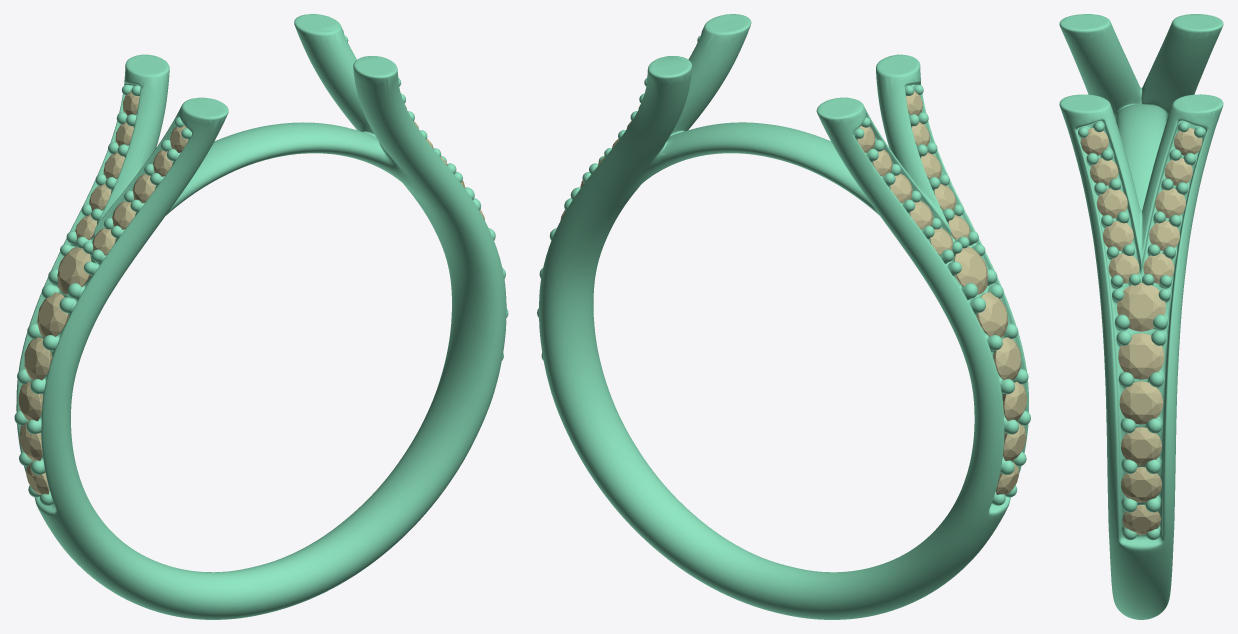
The picture shows the model from 3 angles, left to right: view 1: azimuth 30°, elevation 25°; view 2: azimuth 150°, elevation 25°; view 3: azimuth 270°, elevation 25°; orthographic projection. The views are drawn at different scales.
Parts seen in each view (by area): view 1: Metal02, Diamond_Gem, Diamond_Gem.013, Diamond_Gem.012, Diamond_Gem.014; view 2: Metal02, Diamond_Gem, Diamond_Gem.013, Diamond_Gem.012, Diamond_Gem.014; view 3: Metal02, Diamond_Gem.031, Diamond_Gem.018, Diamond_Gem.019, Diamond_Gem.017, Diamond_Gem.016, Diamond_Gem.020, Diamond_Gem.028, Diamond_Gem.023, Diamond_Gem.022, Diamond_Gem.030, Diamond_Gem.025 (+5 smaller).
Part boxes in pixels (box(x1,y1,x2,y2)): Metal02: box(14, 14, 508, 619); Diamond_Gem: box(57, 246, 91, 294); Diamond_Gem.013: box(37, 292, 68, 337); Diamond_Gem.012: box(24, 337, 52, 380); Diamond_Gem.014: box(18, 381, 43, 421); Metal02: box(537, 14, 1030, 619); Diamond_Gem: box(954, 246, 988, 294); Diamond_Gem.013: box(976, 292, 1008, 337); Diamond_Gem.012: box(993, 337, 1021, 380); Diamond_Gem.014: box(1002, 381, 1027, 421); Metal02: box(1059, 14, 1223, 619); Diamond_Gem.031: box(1117, 283, 1165, 331); Diamond_Gem.018: box(1118, 333, 1164, 379); Diamond_Gem.019: box(1119, 381, 1163, 424); Diamond_Gem.017: box(1121, 427, 1161, 465); Diamond_Gem.016: box(1121, 467, 1161, 502); Diamond_Gem.020: box(1122, 505, 1160, 534); Diamond_Gem.028: box(1097, 188, 1127, 218); Diamond_Gem.023: box(1155, 188, 1185, 218); Diamond_Gem.022: box(1149, 221, 1179, 251); Diamond_Gem.030: box(1103, 221, 1133, 251); Diamond_Gem.025: box(1143, 253, 1174, 283).
Size of the model in its own units: 21.05 by 22.88 by 6.38.
